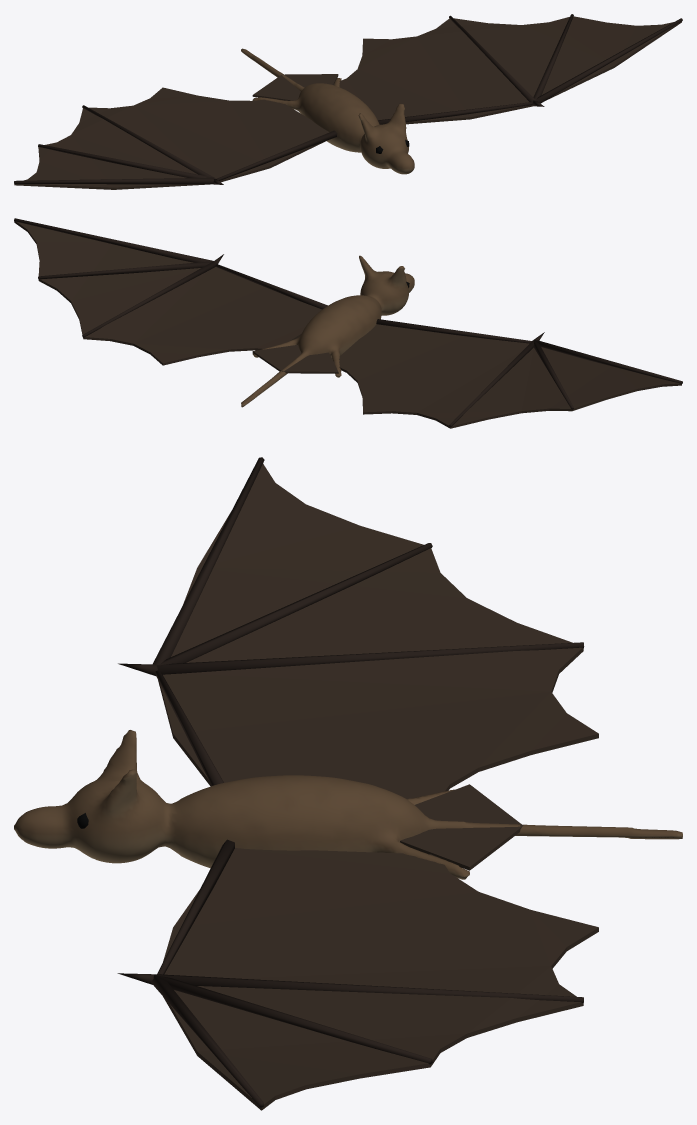
Rendered from IcaronycterisIndex.fbx.
3 renders of one model, top to bottom at view 1: azimuth 30°, elevation 25°; view 2: azimuth 150°, elevation 25°; view 3: azimuth 270°, elevation 25°, orthographic. The views are drawn at different scales.
Visible parts, largest first — view 1: IcaronycterisIndex; view 2: IcaronycterisIndex; view 3: IcaronycterisIndex.
Boxes of the visible parts, x1=… form: IcaronycterisIndex: x1=14, y1=14, x2=682, y2=189; IcaronycterisIndex: x1=14, y1=218, x2=682, y2=428; IcaronycterisIndex: x1=14, y1=457, x2=682, y2=1110.
Size of the model in its own units: 1.9 by 0.1694 by 0.8325.
